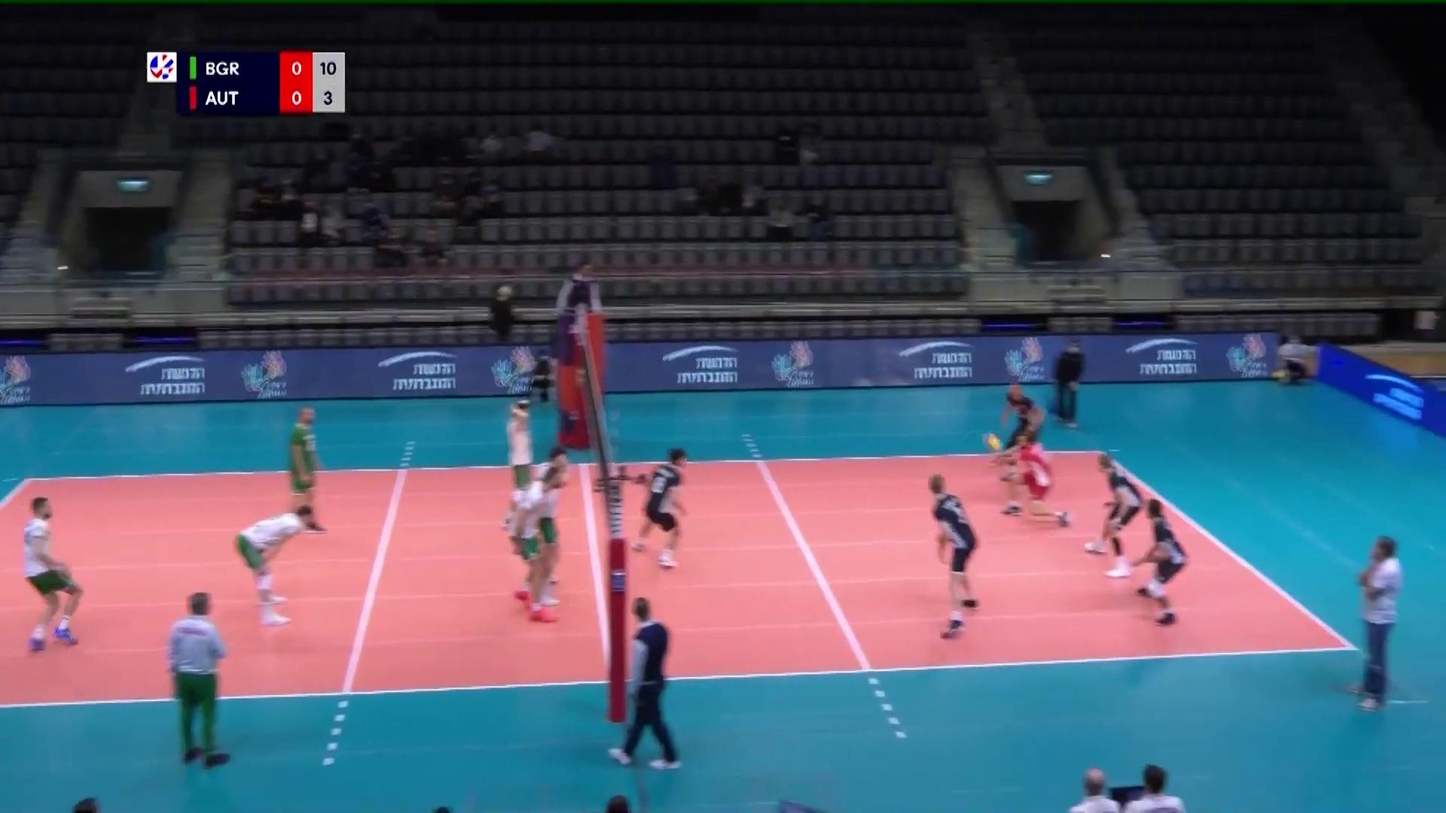ball: (986, 430, 1002, 453)
